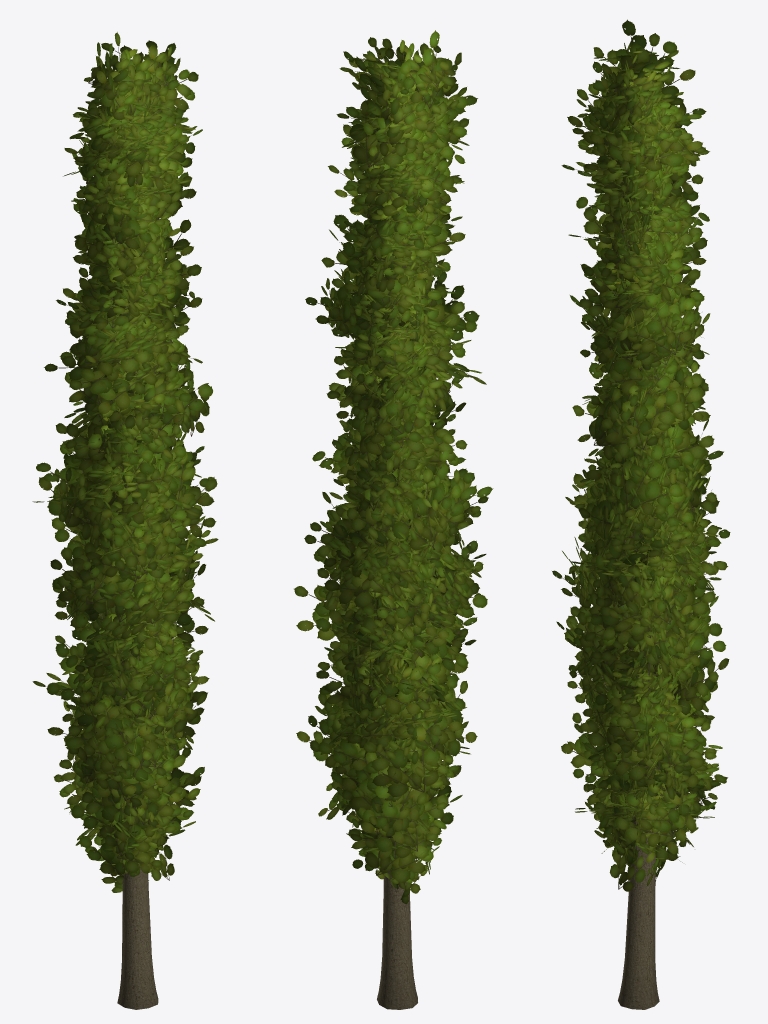
The model's file is tree_poplar.glb.
3 renders of one model, left to right at view 1: azimuth 30°, elevation 25°; view 2: azimuth 150°, elevation 25°; view 3: azimuth 270°, elevation 25°, orthographic.
Parts seen in each view (by area): view 1: plant; view 2: plant; view 3: plant.
Boxes of the visible parts, bbox=[...] form: plant: bbox=[32, 32, 218, 1009]; plant: bbox=[294, 30, 493, 1009]; plant: bbox=[552, 19, 730, 1009].
Bounding box in the file's own units: 4.25 × 18.44 × 3.62.
Materials: 2 (2 with a texture image).
